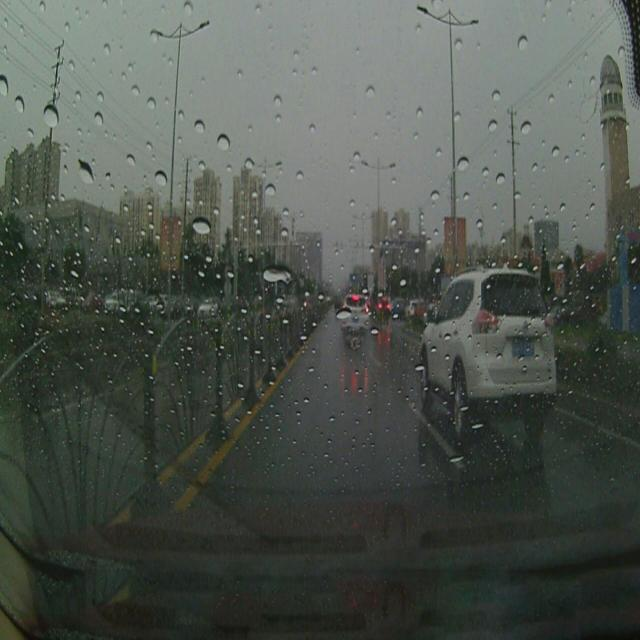car: (421, 266, 556, 433), (342, 294, 370, 344)
